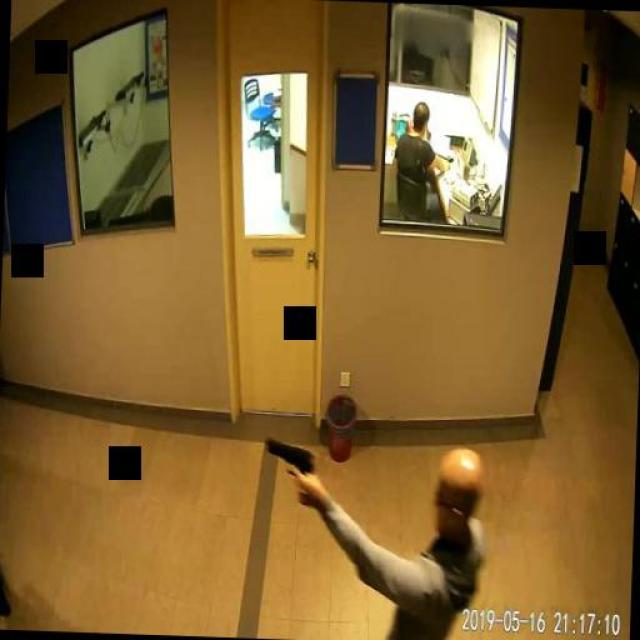gun: (262, 438, 312, 503)
